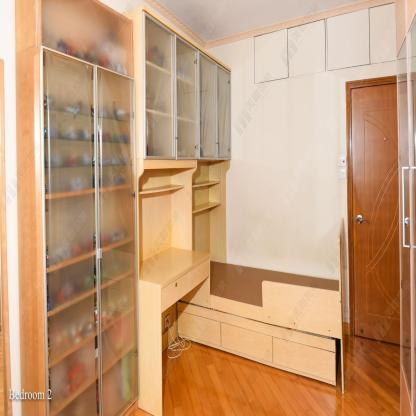Bed Frame: (175, 216, 345, 396)
Cupboard: (126, 4, 232, 162)
Door: (345, 74, 400, 347)
